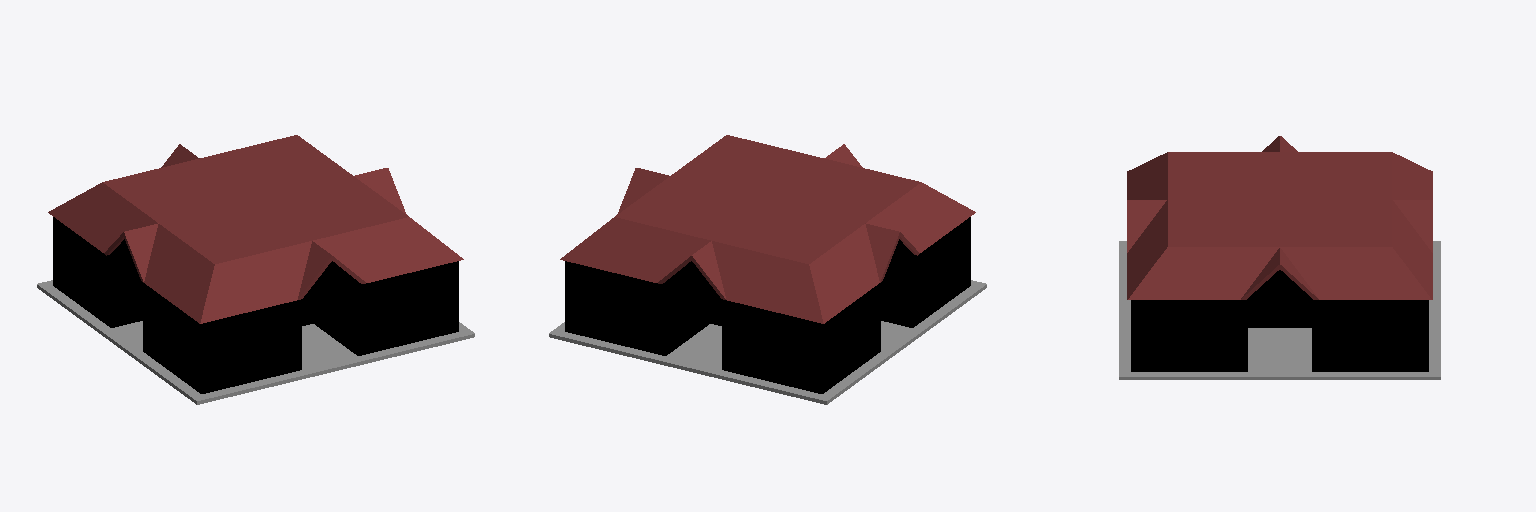
The model's file is Marketplace.obj.
3 renders of one model, left to right at view 1: azimuth 30°, elevation 25°; view 2: azimuth 150°, elevation 25°; view 3: azimuth 270°, elevation 25°, orthographic.
Size of the model in its own units: 20 by 7.75 by 20.